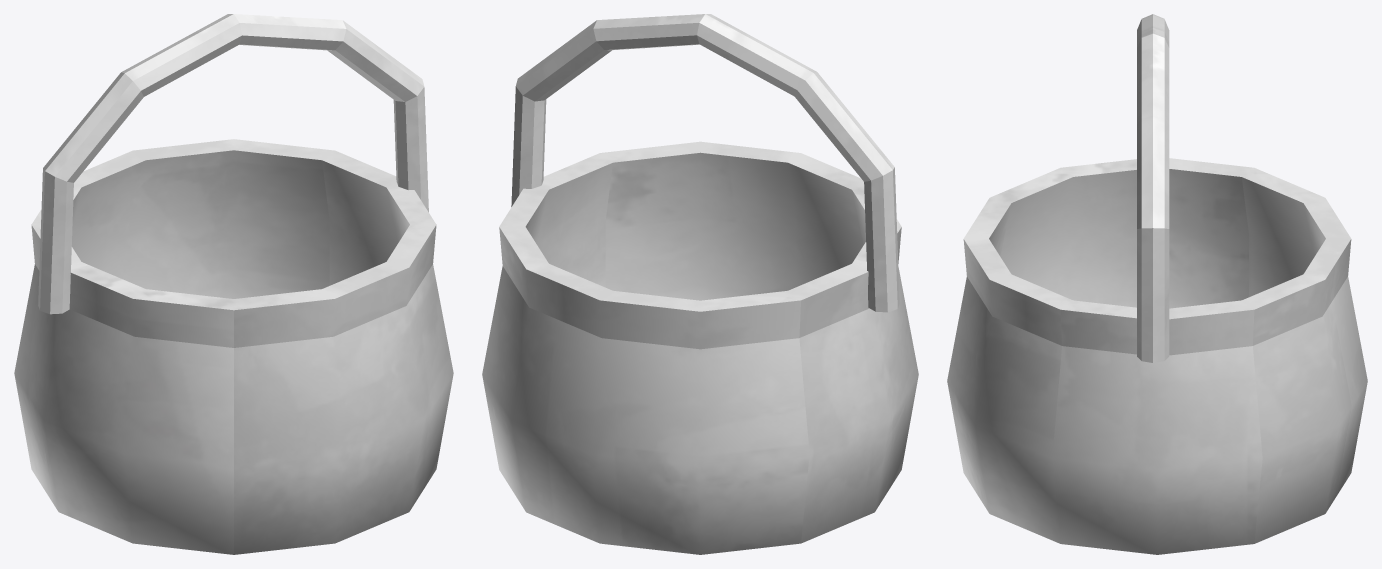
File: Pot_iron.fbx
3 views of the same model, side by side, from view 1: azimuth 30°, elevation 25°; view 2: azimuth 150°, elevation 25°; view 3: azimuth 270°, elevation 25° (orthographic). The views are drawn at different scales.
Parts seen in each view (by area): view 1: pot_iron; view 2: pot_iron; view 3: pot_iron.
Part boxes in pixels (x1,y1,x2,y2): pot_iron: (14,14,453,554); pot_iron: (482,14,918,554); pot_iron: (947,14,1367,554).
Bounding box in the file's own units: 1.06 × 1.27 × 1.04.
